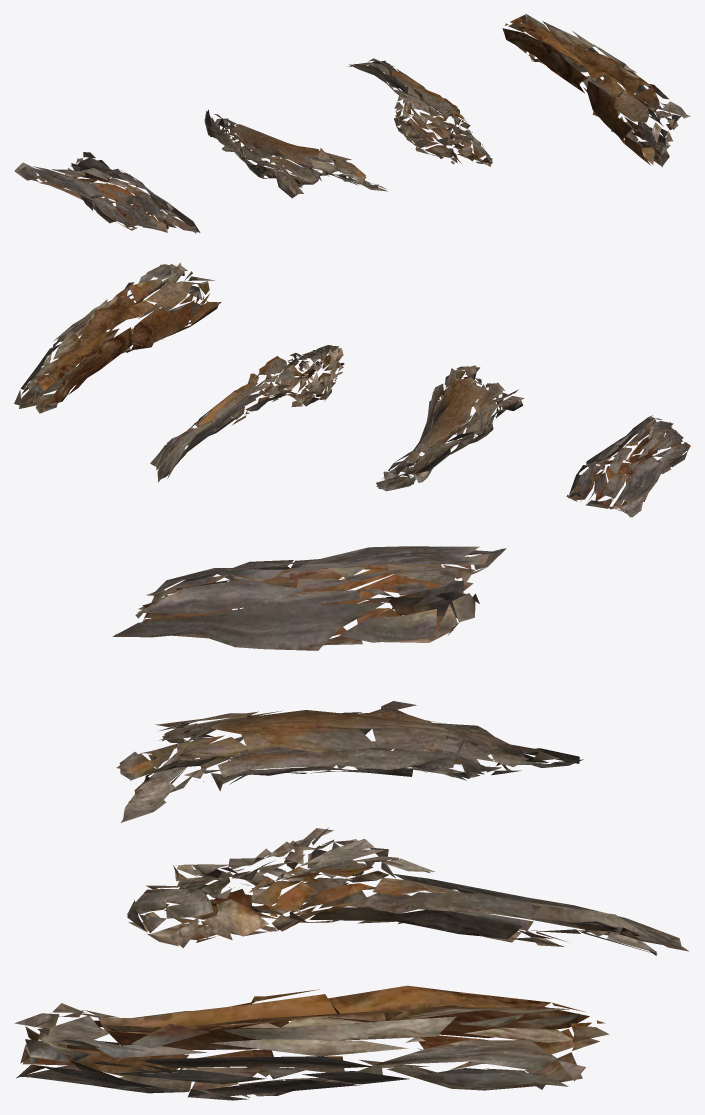
Rendered from bark_debris_01.glb.
3 views of the same model, one above another, from view 1: azimuth 30°, elevation 25°; view 2: azimuth 150°, elevation 25°; view 3: azimuth 270°, elevation 25° (orthographic). The views are drawn at different scales.
Visible parts, largest first — view 1: bark_debris_01_d, bark_debris_01_a, bark_debris_01_b, bark_debris_01_c; view 2: bark_debris_01_d, bark_debris_01_b, bark_debris_01_c, bark_debris_01_a; view 3: bark_debris_01_d, bark_debris_01_c, bark_debris_01_a, bark_debris_01_b.
Part boxes in pixels (bbox=[...]): bark_debris_01_d: bbox=[502, 14, 690, 167]; bark_debris_01_a: bbox=[14, 152, 200, 233]; bark_debris_01_b: bbox=[204, 109, 387, 198]; bark_debris_01_c: bbox=[347, 58, 492, 166]; bark_debris_01_d: bbox=[14, 262, 221, 413]; bark_debris_01_b: bbox=[376, 365, 524, 491]; bark_debris_01_c: bbox=[150, 345, 344, 482]; bark_debris_01_a: bbox=[566, 415, 690, 517]; bark_debris_01_d: bbox=[14, 985, 609, 1100]; bark_debris_01_c: bbox=[126, 827, 689, 955]; bark_debris_01_a: bbox=[112, 546, 506, 650]; bark_debris_01_b: bbox=[116, 701, 583, 822].
Bounding box in the file's own units: 1.21 × 0.1065 × 0.6688.
Materials: 1 (1 with a texture image).
